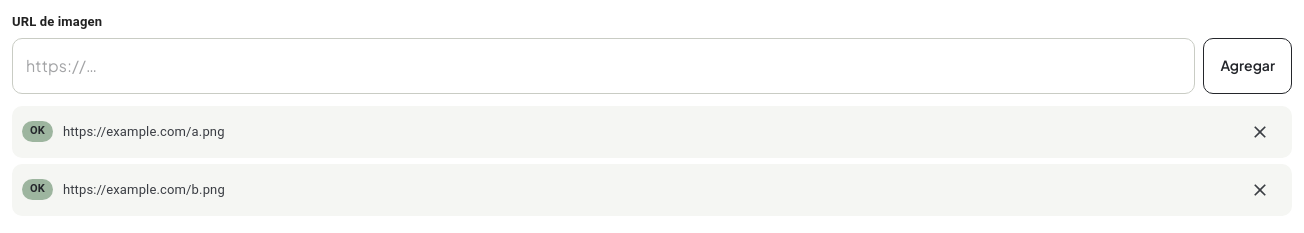
Scenario: ImageUrlsField › removes a url
Click the button named "Quitar imagen 1". click: (1260, 132)
box: [1238, 110, 1282, 154]
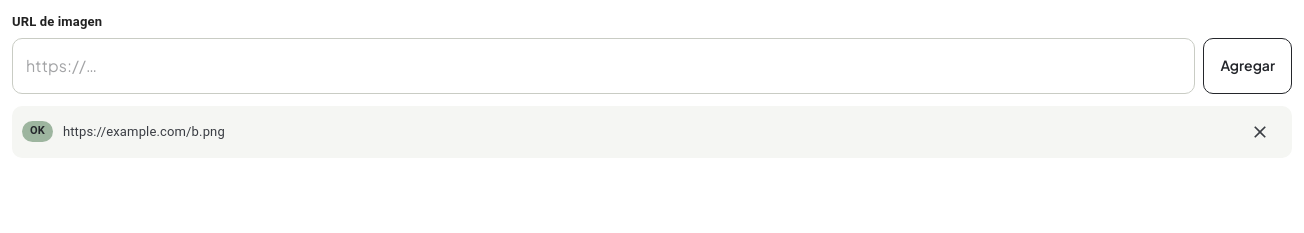
Check: the list item shows "https://example.com/b.png", box [63, 124, 225, 139]
Check: the number of list items is 1, box [12, 106, 1292, 158]
